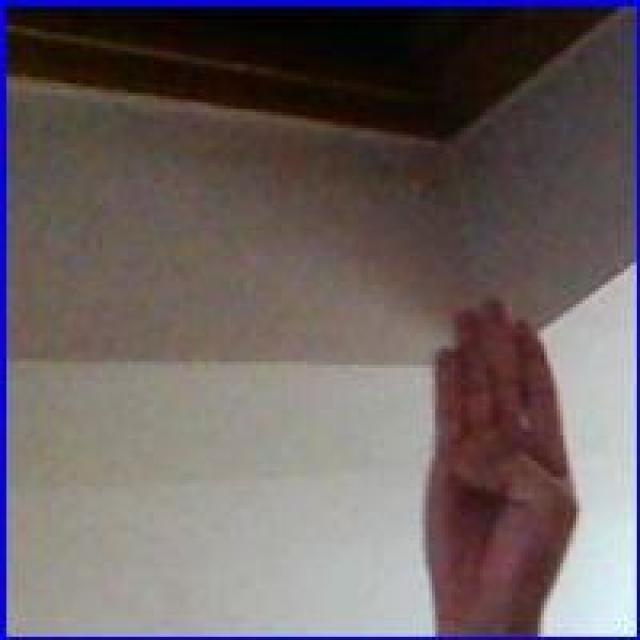B: (421, 293, 581, 632)
